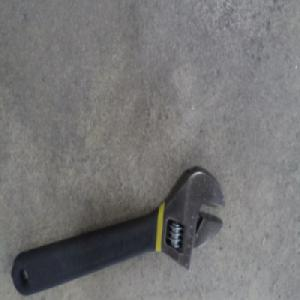AdjustableWrench: (12, 166, 227, 293)
